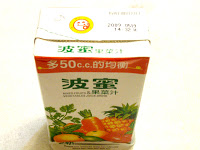vegetables juice: (34, 6, 153, 149)
